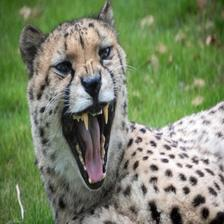Cheetah: (19, 0, 224, 224)
